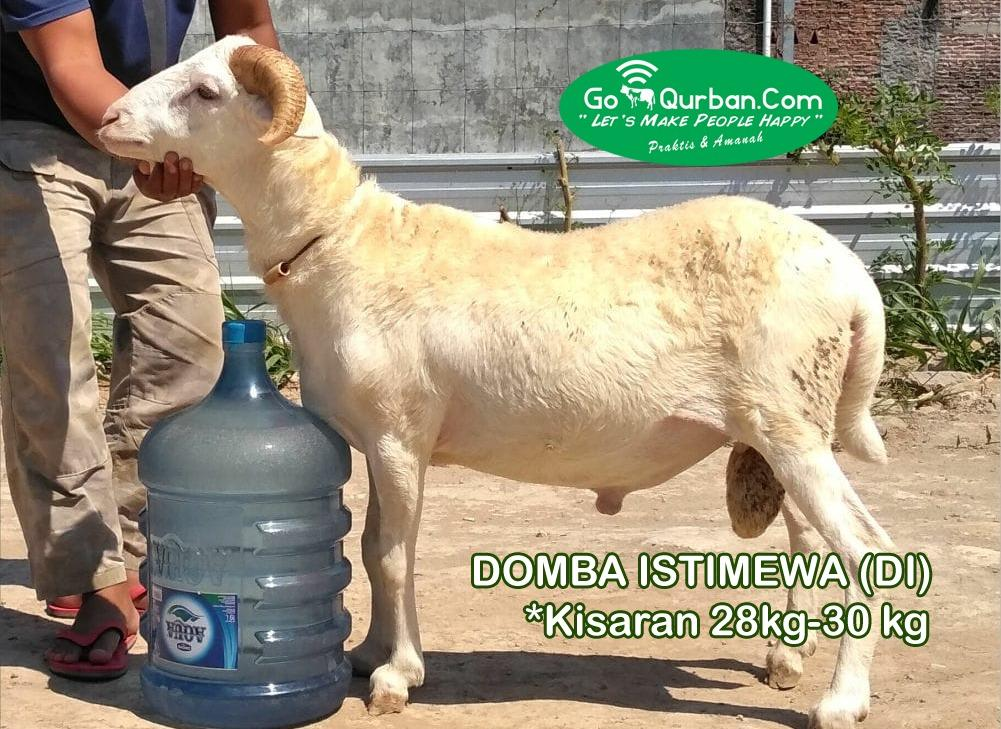Sheep: (82, 22, 341, 247)
